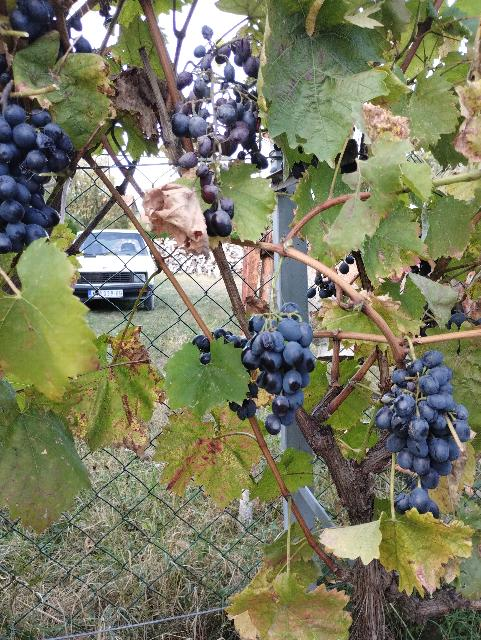grapes: (375, 350, 471, 518), (0, 81, 72, 254), (242, 302, 316, 435)
